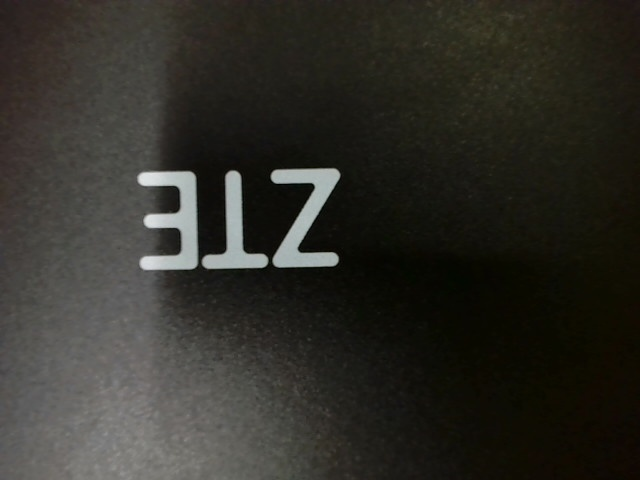AN_ZTE: (120, 161, 355, 278)
